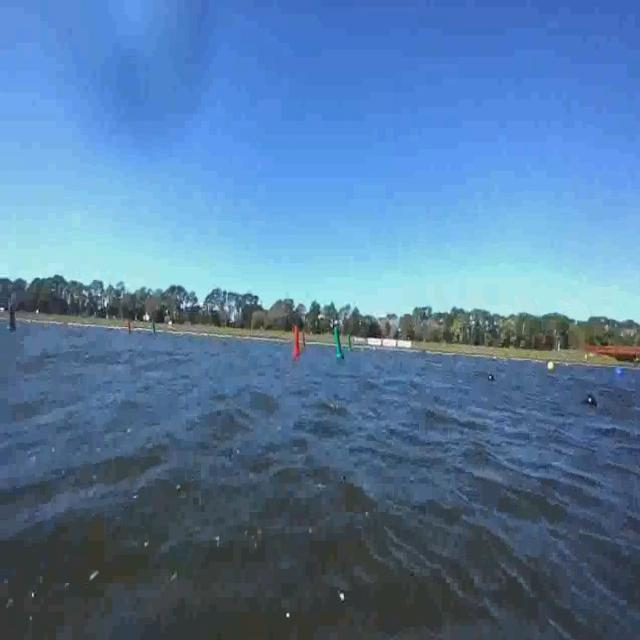black-buoy: (585, 391, 600, 408), (488, 375, 498, 382)
blue-buoy: (616, 363, 626, 378)
green-column-buoy: (334, 328, 347, 360), (347, 332, 354, 352), (152, 320, 158, 336)
red-column-buoy: (292, 327, 301, 359), (128, 319, 134, 336)
yellow-buoy: (546, 359, 554, 374)
